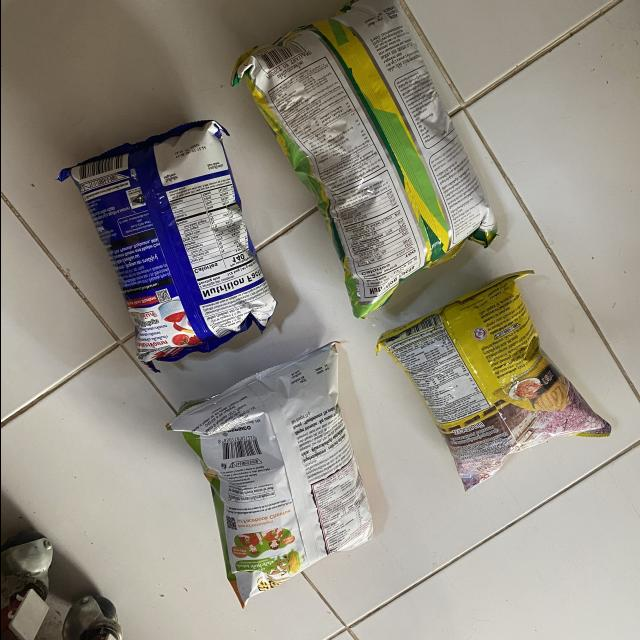plastik: (232, 0, 496, 316), (166, 343, 371, 606), (57, 121, 275, 367), (375, 271, 610, 491)
